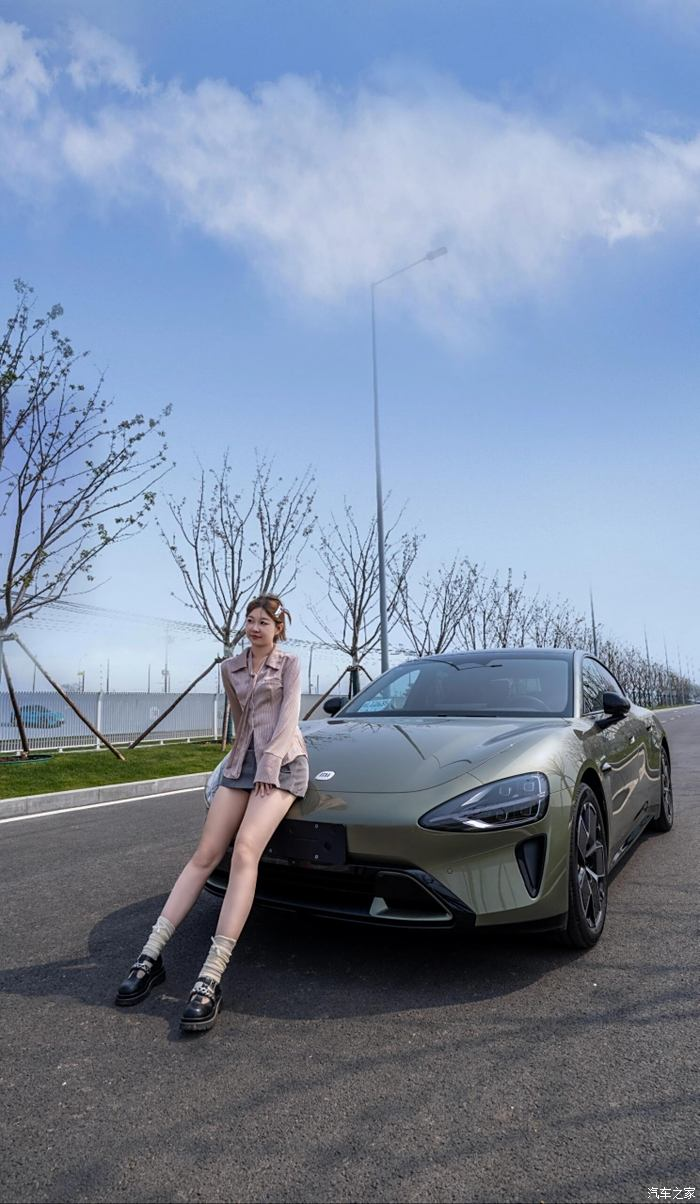su7: (215, 647, 676, 951)
